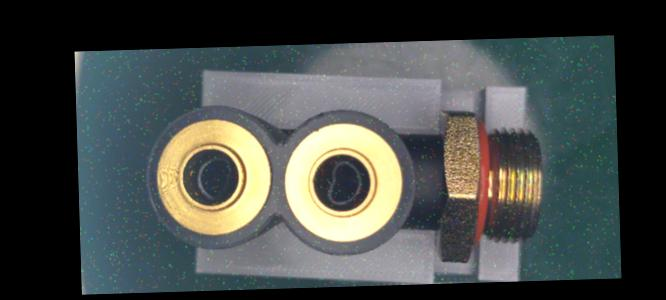off-centered: (191, 154, 237, 202), (320, 157, 364, 205)
